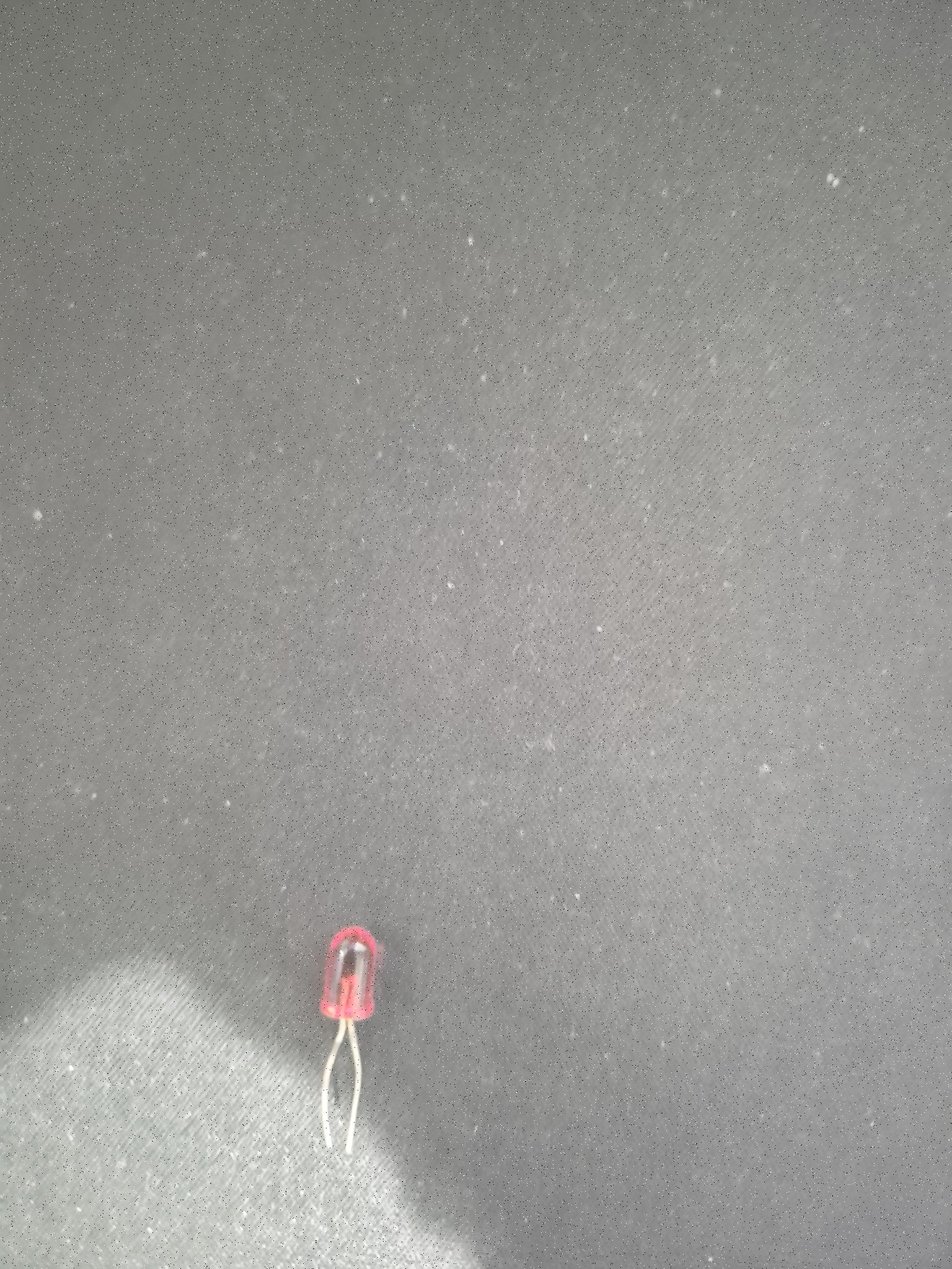led-diode: (320, 927, 383, 1152)
